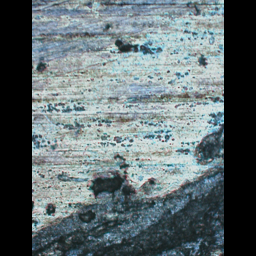d: (32, 120, 223, 255)
